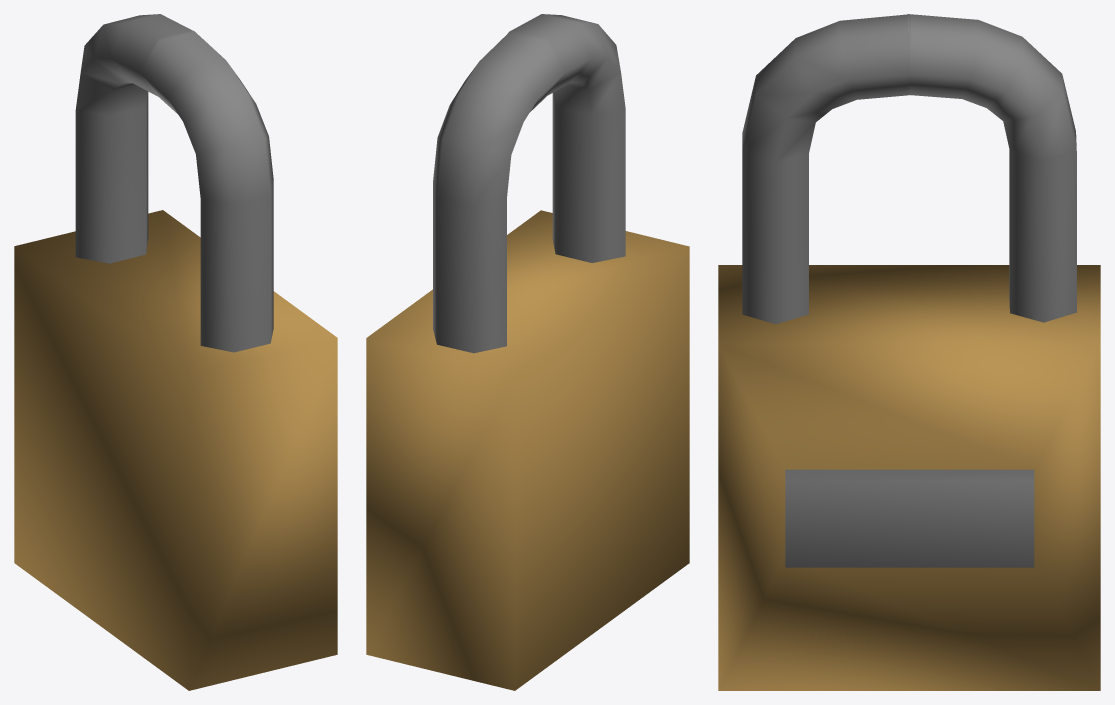
File: Cadenas_ferme.fbx
The picture shows the model from 3 angles, left to right: view 1: azimuth 30°, elevation 25°; view 2: azimuth 150°, elevation 25°; view 3: azimuth 270°, elevation 25°; orthographic projection. The views are drawn at different scales.
Parts seen in each view (by area): view 1: pCube1, pCylinder3; view 2: pCube1, pCylinder3; view 3: pCube1, pCylinder3.
Part boxes in pixels (x1,y1,x2,y2): pCube1: [14, 210, 337, 690]; pCylinder3: [75, 14, 273, 352]; pCube1: [366, 210, 689, 690]; pCylinder3: [433, 14, 625, 353]; pCube1: [718, 265, 1100, 690]; pCylinder3: [742, 14, 1076, 324].
Size of the model in its own units: 0.2018 by 0.6515 by 0.3599.
